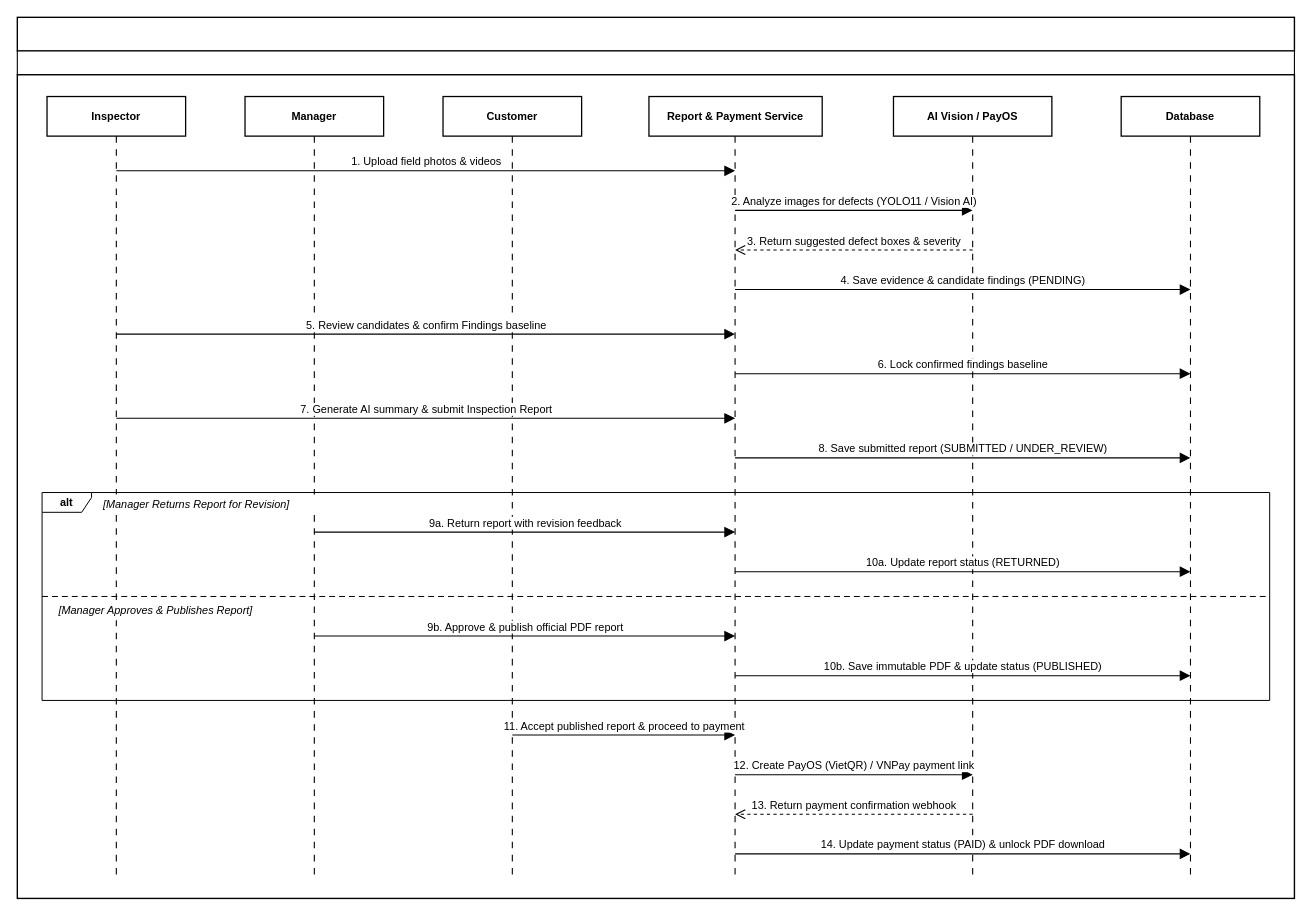
The diagram is 1313 pixels wide and 917 high, and some of its shapes have lost their labels. The shapes that lost their labels are listed below. From the top down, each one's centre as x and y in pixels, then its label:
At (x=655, y=33): "FE-06 Sequence Diagram — Evidence, AI Defect Detection, Report & Payment".
At (x=655, y=62): "Owner: Tran Tung Bach (SE180220) | Feature: FE-06 (MF3)".
